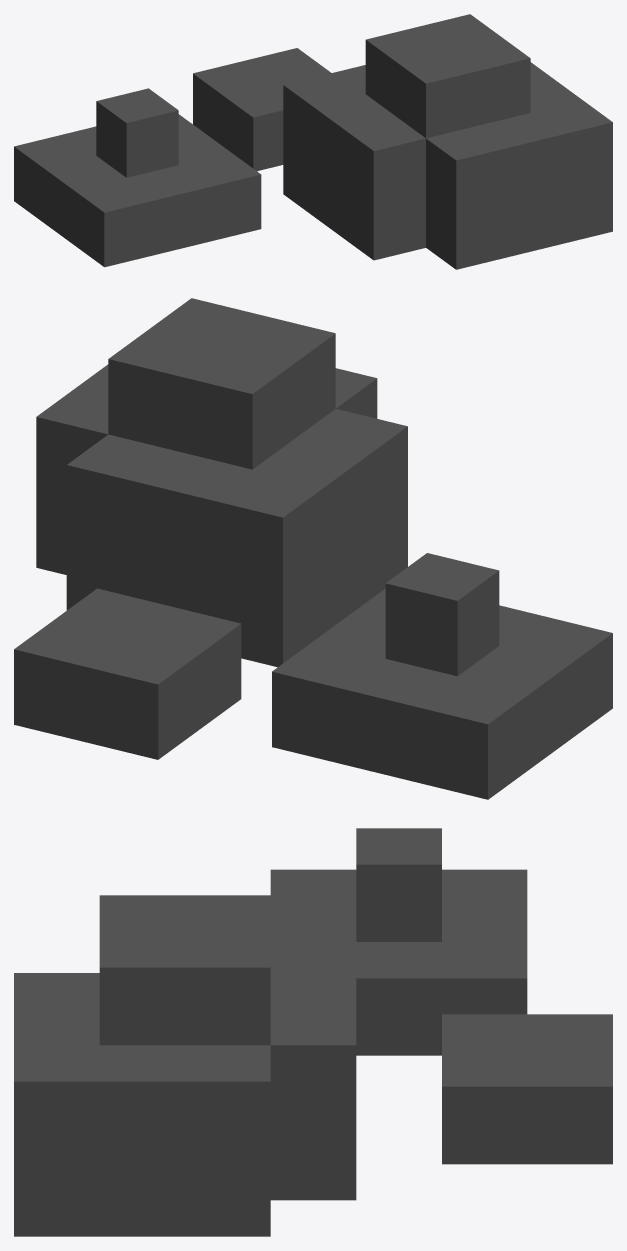
File: SmallRock1.obj
3 renders of one model, top to bottom at view 1: azimuth 30°, elevation 25°; view 2: azimuth 150°, elevation 25°; view 3: azimuth 270°, elevation 25°, orthographic. The views are drawn at different scales.
Parts seen in each view (by area): view 1: SmallRock1; view 2: SmallRock1; view 3: SmallRock1.
Part boxes in pixels (box(x1,y1,x2,y2)): SmallRock1: box(14, 14, 612, 269); SmallRock1: box(14, 298, 612, 799); SmallRock1: box(14, 828, 612, 1236).
Bounding box in the file's own units: 8 × 3 × 7.
Materials: 1 (1 with a texture image).
